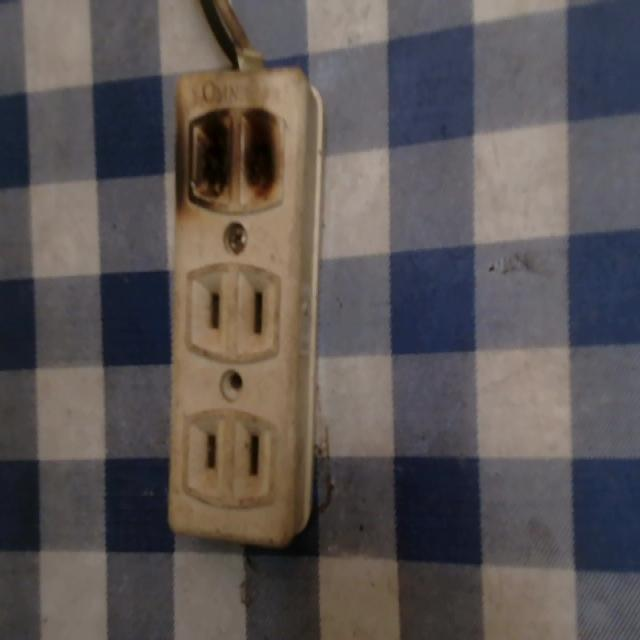-: (163, 90, 298, 210)
